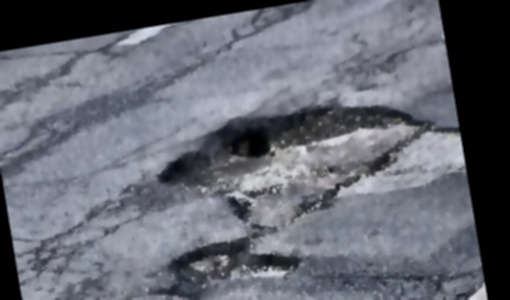pothole: (146, 82, 445, 246), (158, 226, 303, 297)
